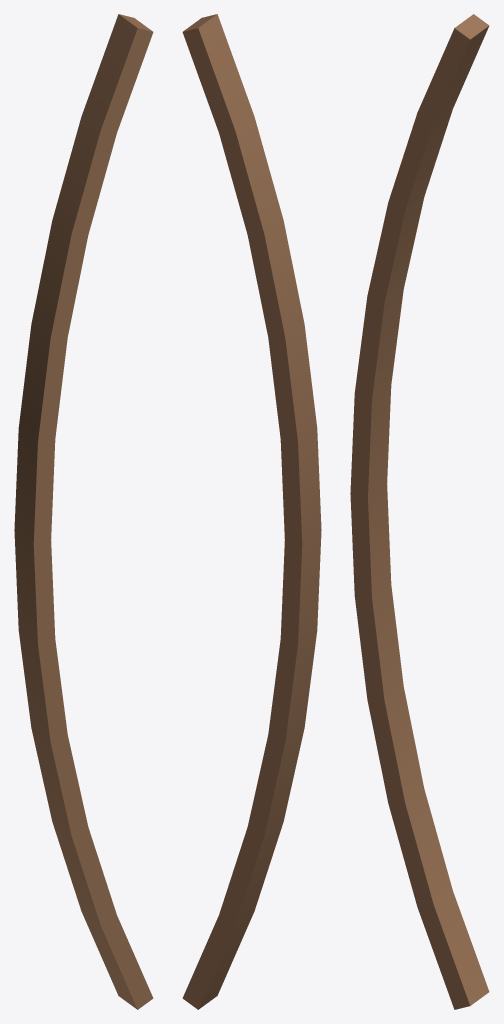
The model's file is Metal_Beam_01_Bend_01.fbx.
3 views of the same model, side by side, from view 1: azimuth 30°, elevation 25°; view 2: azimuth 150°, elevation 25°; view 3: azimuth 330°, elevation 25° (orthographic).
Visible parts, largest first — view 1: Metal_Beam_01_Bend_01; view 2: Metal_Beam_01_Bend_01; view 3: Metal_Beam_01_Bend_01.
Part boxes in pixels (x1,y1,x2,y2): Metal_Beam_01_Bend_01: (14, 14, 153, 1009); Metal_Beam_01_Bend_01: (182, 14, 321, 1009); Metal_Beam_01_Bend_01: (350, 14, 489, 1009).
Size of the model in its own units: 60.41 by 473 by 16.8.
